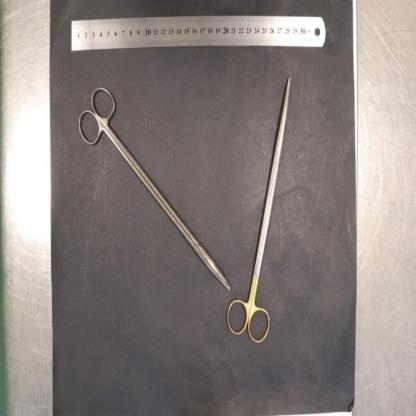7 Metzenbaum Scissors: (226, 75, 291, 345)
9 Metzenbaum Scissors: (78, 83, 233, 293)
